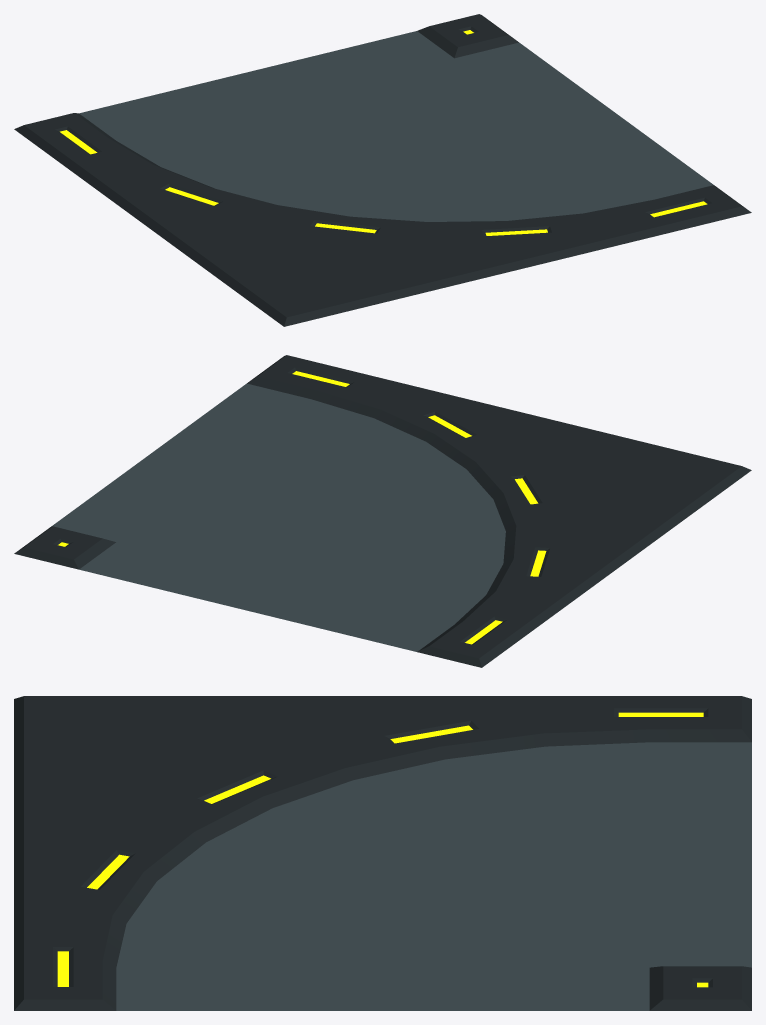
File: floorCross.fbx
The picture shows the model from 3 angles, top to bottom: view 1: azimuth 30°, elevation 25°; view 2: azimuth 150°, elevation 25°; view 3: azimuth 270°, elevation 25°; orthographic projection. The views are drawn at different scales.
Parts seen in each view (by area): view 1: floorLType; view 2: floorLType; view 3: floorLType.
Part boxes in pixels (bbox=[...]): floorLType: bbox=[14, 14, 751, 326]; floorLType: bbox=[14, 355, 751, 667]; floorLType: bbox=[14, 696, 751, 1010].
Bounding box in the file's own units: 2 × 2 × 0.0215.
